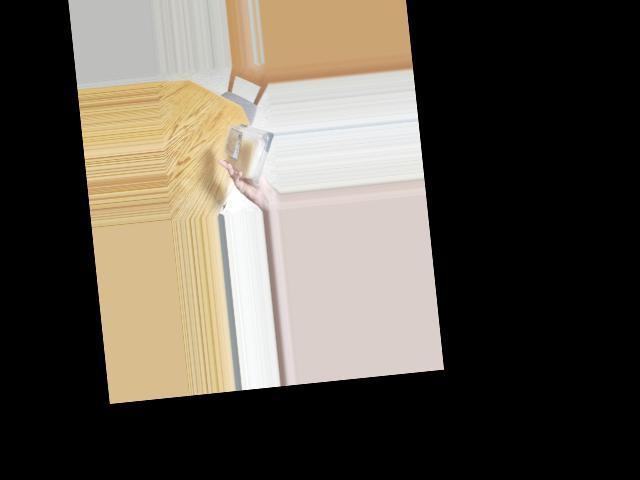cheese: (221, 121, 273, 181)
